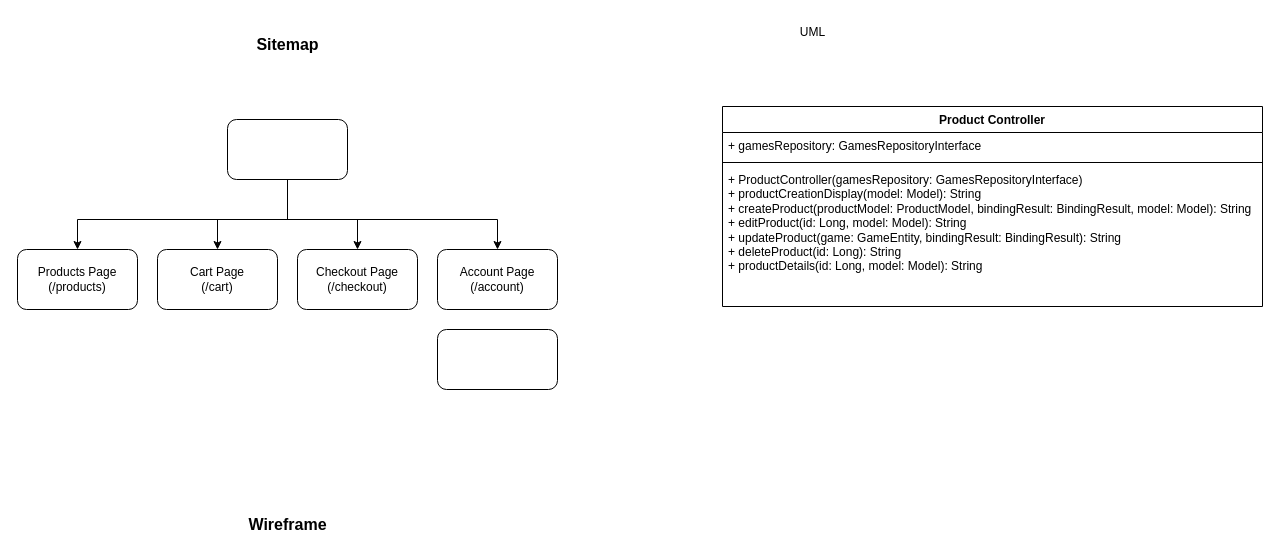
Some shapes in this 1280 by 556 pixel diagram are drawn without their labels. The box of each missing label's shape, as (x1, y1, x2, y2) in pixels:
Account page: For viewing products you bought, suggesting others, etc.: (436, 328, 558, 390)
Homepage (/,/home): (226, 118, 348, 180)
